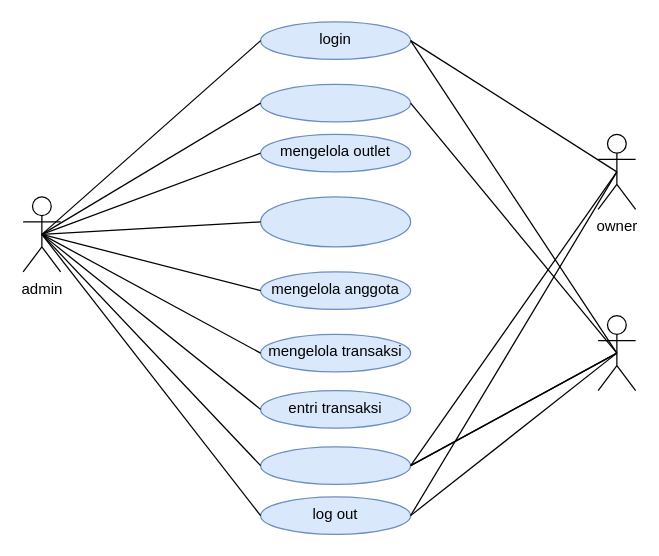
Some shapes in this 659 by 556 pixel diagram are drawn without their labels. Here are the shapes that lost their labels. From the top down, the box of each, then its label:
(259, 83, 411, 122): registrasi pelanggan
(259, 196, 411, 247): mengelola produk/paket cucian
(597, 314, 636, 391): kasir
(259, 446, 411, 484): generate laporan
